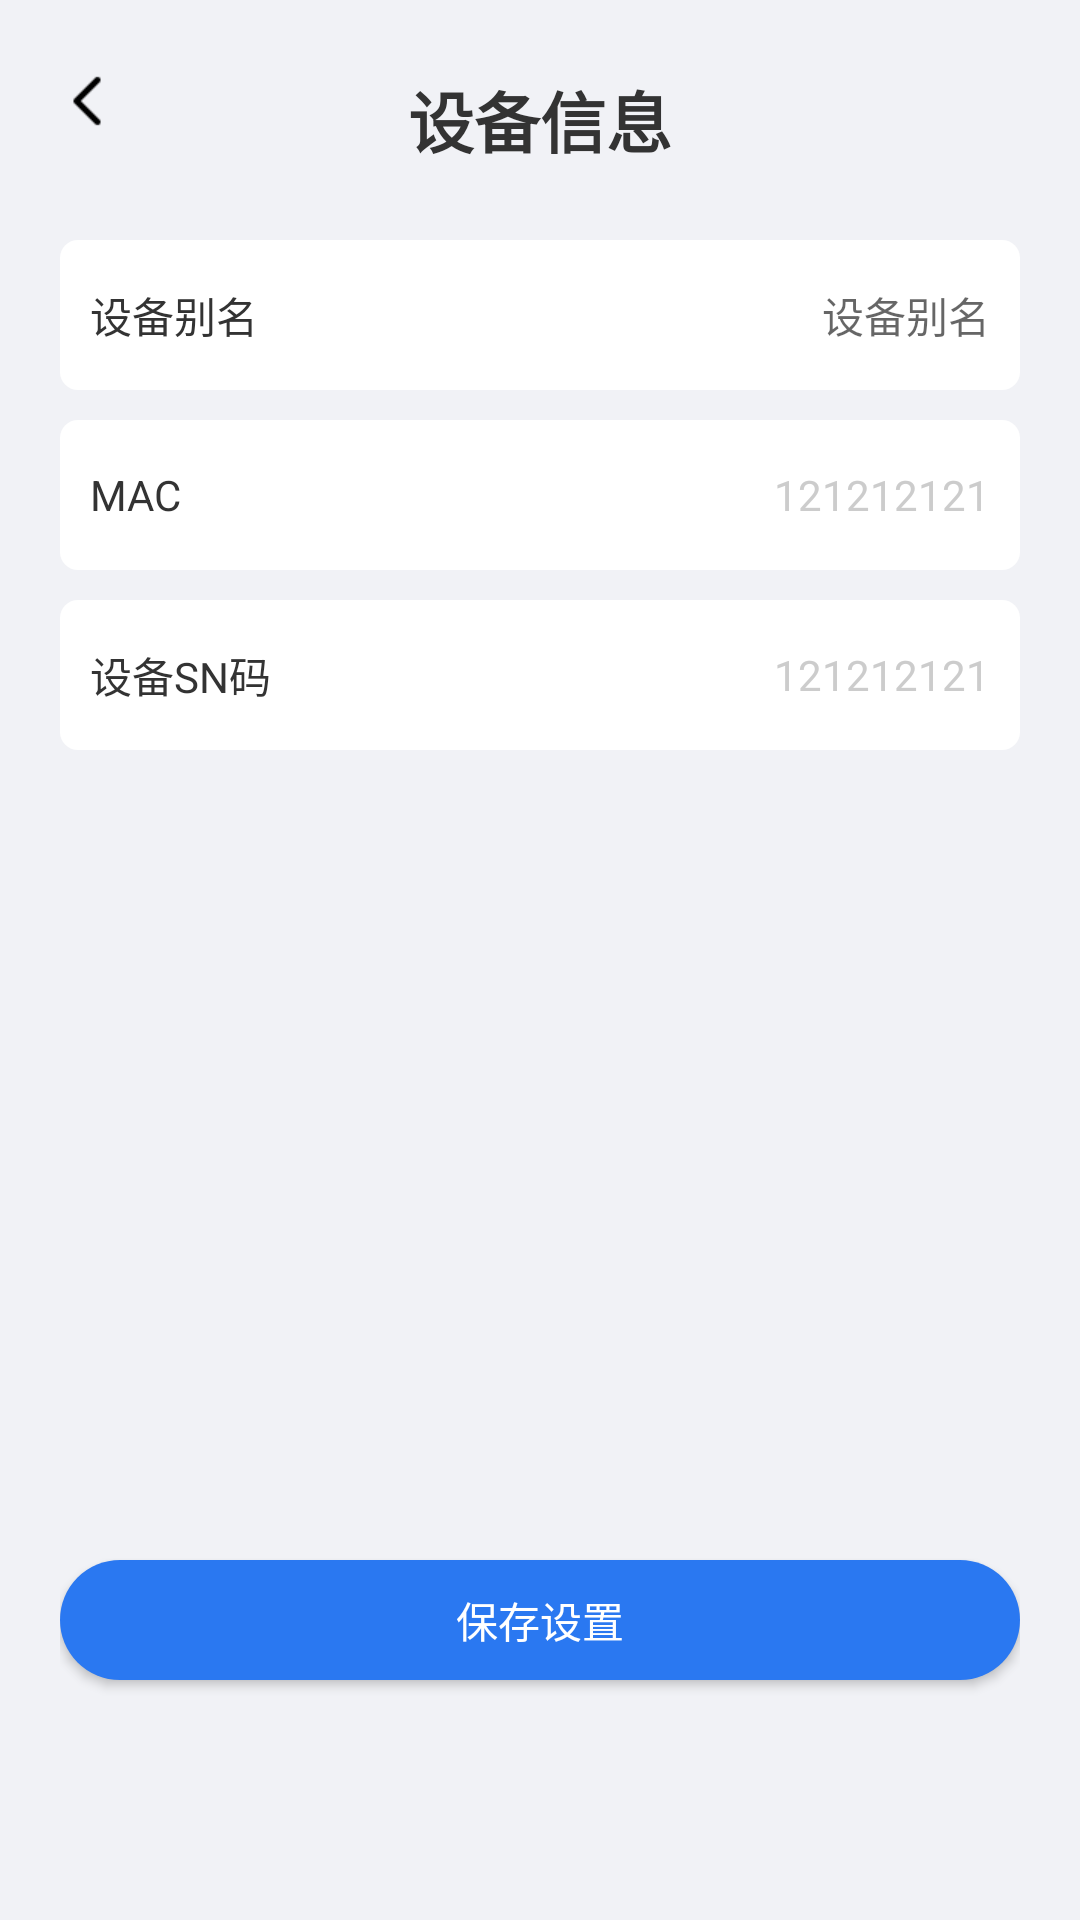

Icons on this 1080px×1920px Android screen, each with its box as BBox(x1, y1, x2, y2):
back: BBox(73, 76, 101, 126)
